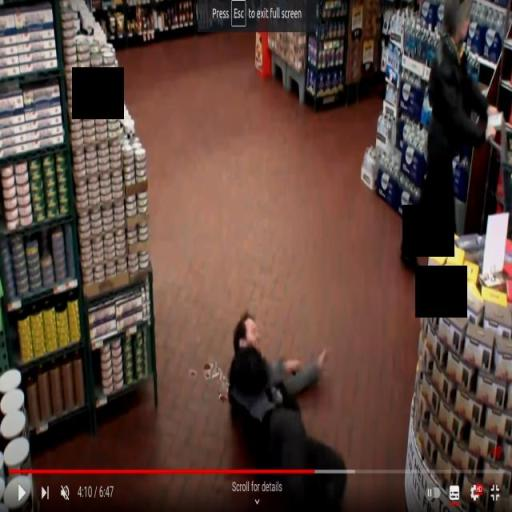Fall: (225, 310, 348, 511)
